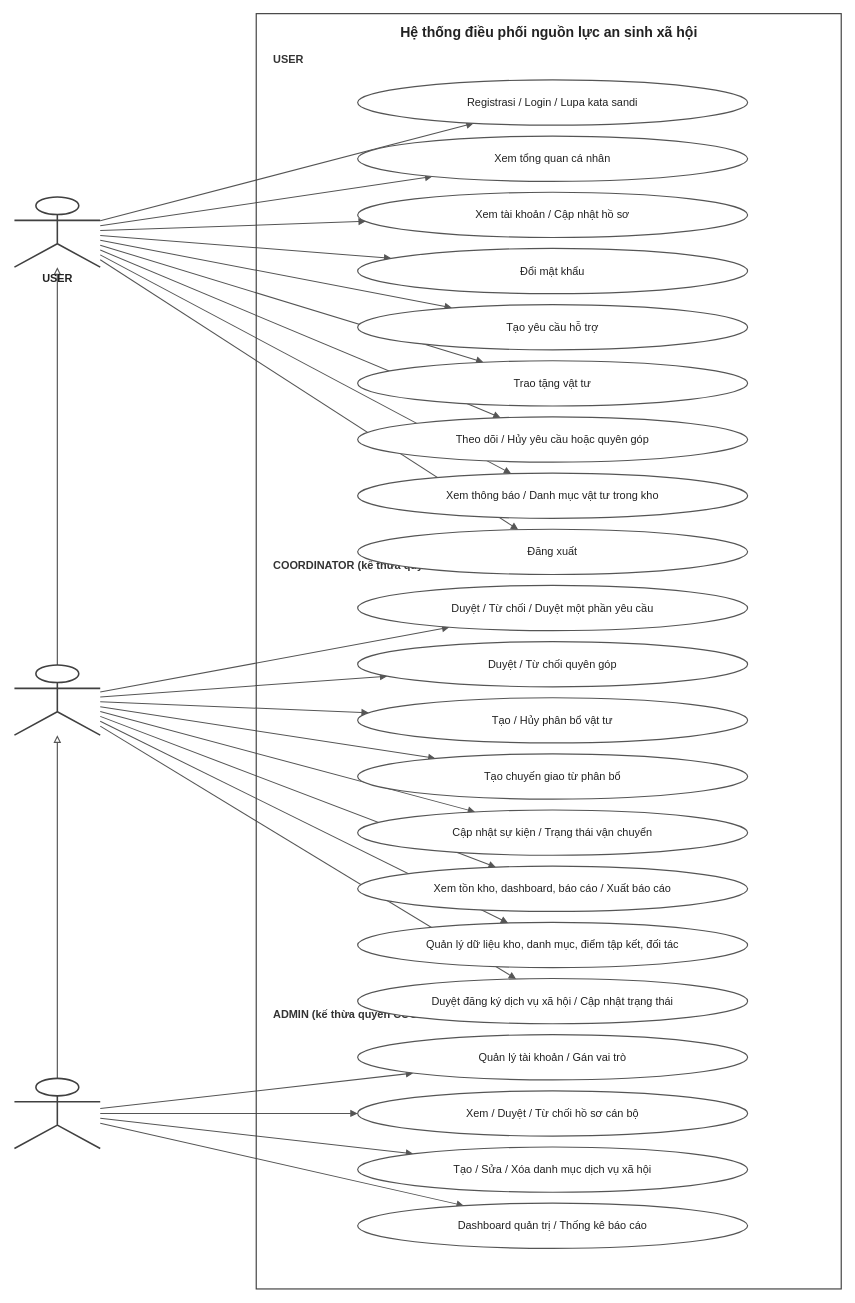
Some shapes in this 855 by 1303 pixel diagram are drawn without their labels. Here are the shapes that lost their labels. From the top down, the centre of each, then its label:
(57,700): COORDINATOR
(57,1113): ADMIN
